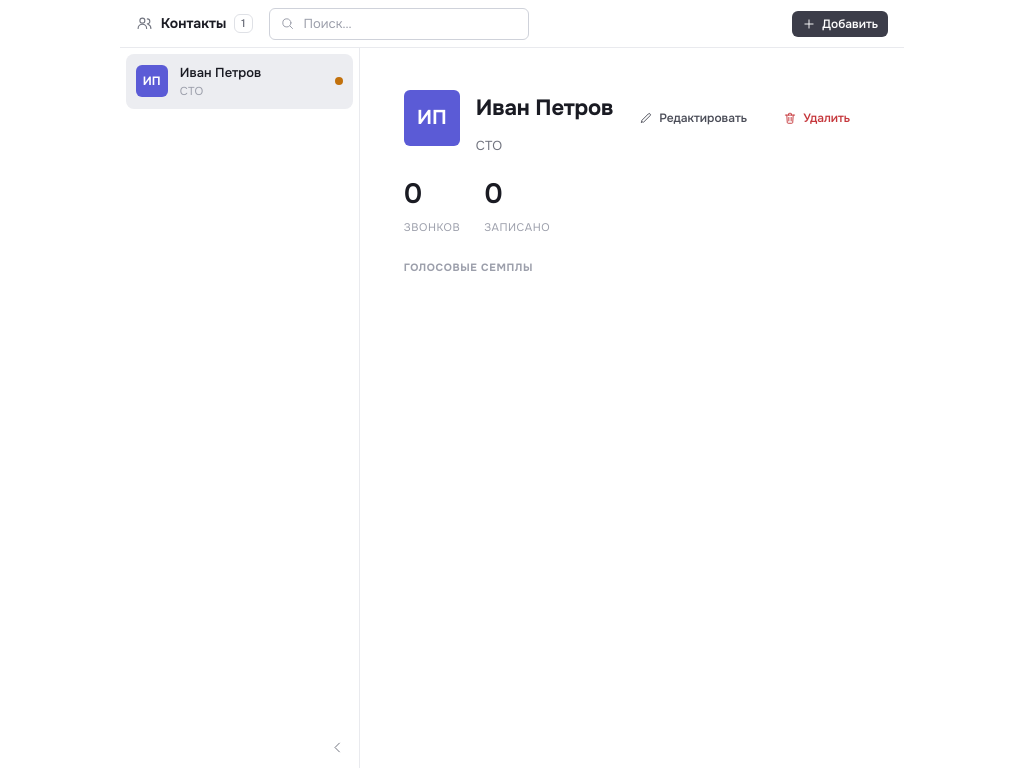
Test case: ContactsPage › edit opens dialog prefilled with contact name
Expected: the text "Иван Петров" is shown, [180,64,261,81]
Step 1. Click the button "Редактировать" → (693, 118), box [629,105,757,131]
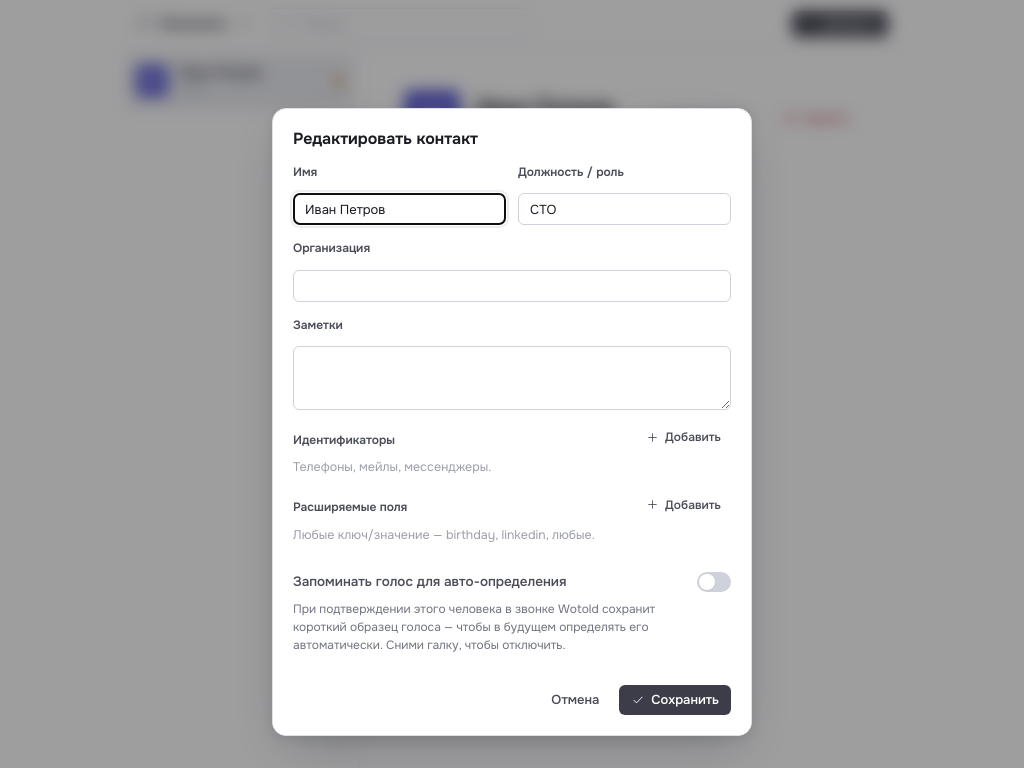
Expected: the dialog is shown, [272,108,752,736]
Expected: the text "Редактировать контакт" is shown, [293,128,478,148]
Expected: the field labelled "Имя" holds "Иван Петров", [293,193,506,225]
